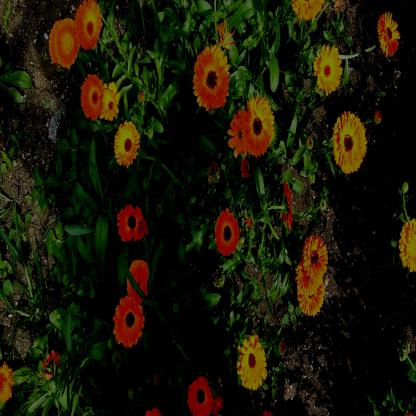marigold: (332, 109, 366, 173), (194, 46, 228, 108), (236, 336, 268, 388), (245, 99, 274, 154), (112, 296, 145, 342), (48, 22, 80, 66), (75, 0, 102, 48), (314, 46, 342, 89), (212, 209, 238, 253), (302, 236, 328, 278), (80, 73, 102, 119), (115, 124, 140, 164), (378, 12, 402, 53), (117, 206, 144, 242), (188, 378, 213, 415), (127, 259, 149, 300), (228, 111, 249, 153), (295, 289, 327, 316), (400, 220, 416, 270), (297, 268, 319, 292), (103, 88, 119, 118)
